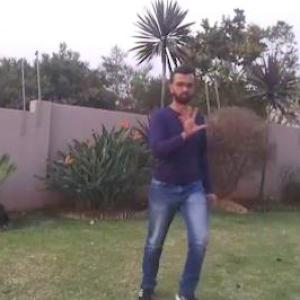follow_hand: (174, 100, 208, 140)
